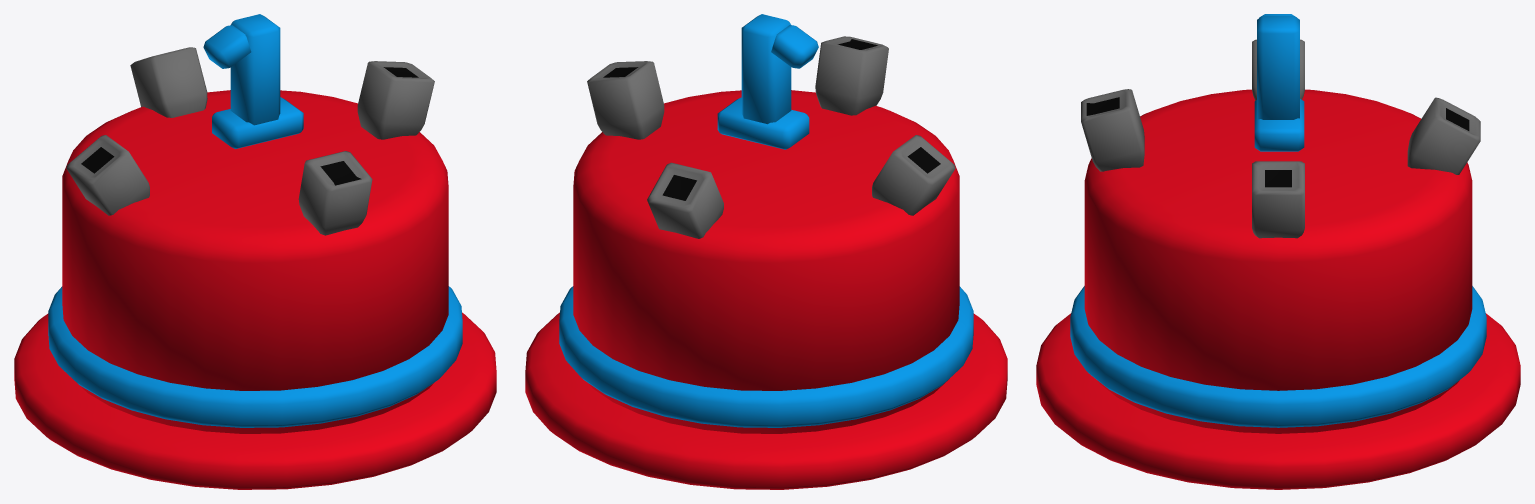
The model's file is Year 1 hat.fbx.
3 views of the same model, side by side, from view 1: azimuth 30°, elevation 25°; view 2: azimuth 150°, elevation 25°; view 3: azimuth 270°, elevation 25° (orthographic).
Visible parts, largest first — view 1: Cube.001; view 2: Cube.001; view 3: Cube.001.
Boxes of the visible parts, x1,y1,x2,y2 form: Cube.001: [14, 14, 496, 489]; Cube.001: [525, 14, 1007, 489]; Cube.001: [1036, 14, 1520, 489].
Bounding box in the file's own units: 200 × 174 × 200.
